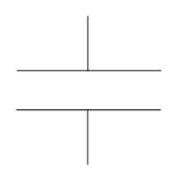Capacitor: (12, 54, 165, 125)
